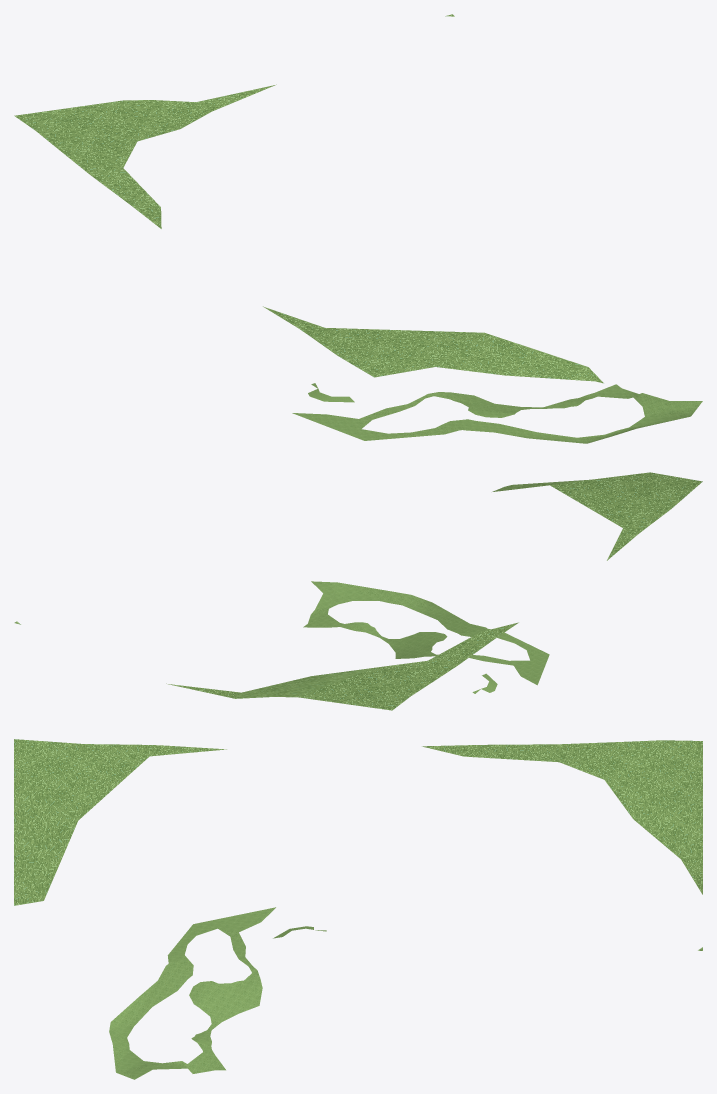
File: kd_connection_town-ground_surface_2_7.glb
The picture shows the model from 3 angles, top to bottom: view 1: azimuth 30°, elevation 25°; view 2: azimuth 150°, elevation 25°; view 3: azimuth 270°, elevation 25°; orthographic projection. The views are drawn at different scales.
Visible parts, largest first — view 1: kd_connection_town-ground_surface_2_7; view 2: kd_connection_town-ground_surface_2_7; view 3: kd_connection_town-ground_surface_2_7.
Part boxes in pixels (x1,y1,x2,y2): kd_connection_town-ground_surface_2_7: (14,14,702,443); kd_connection_town-ground_surface_2_7: (14,472,702,710); kd_connection_town-ground_surface_2_7: (14,739,702,1079).
Bounding box in the file's own units: 149 × 56.52 × 212.
Materials: 1 (1 with a texture image).
